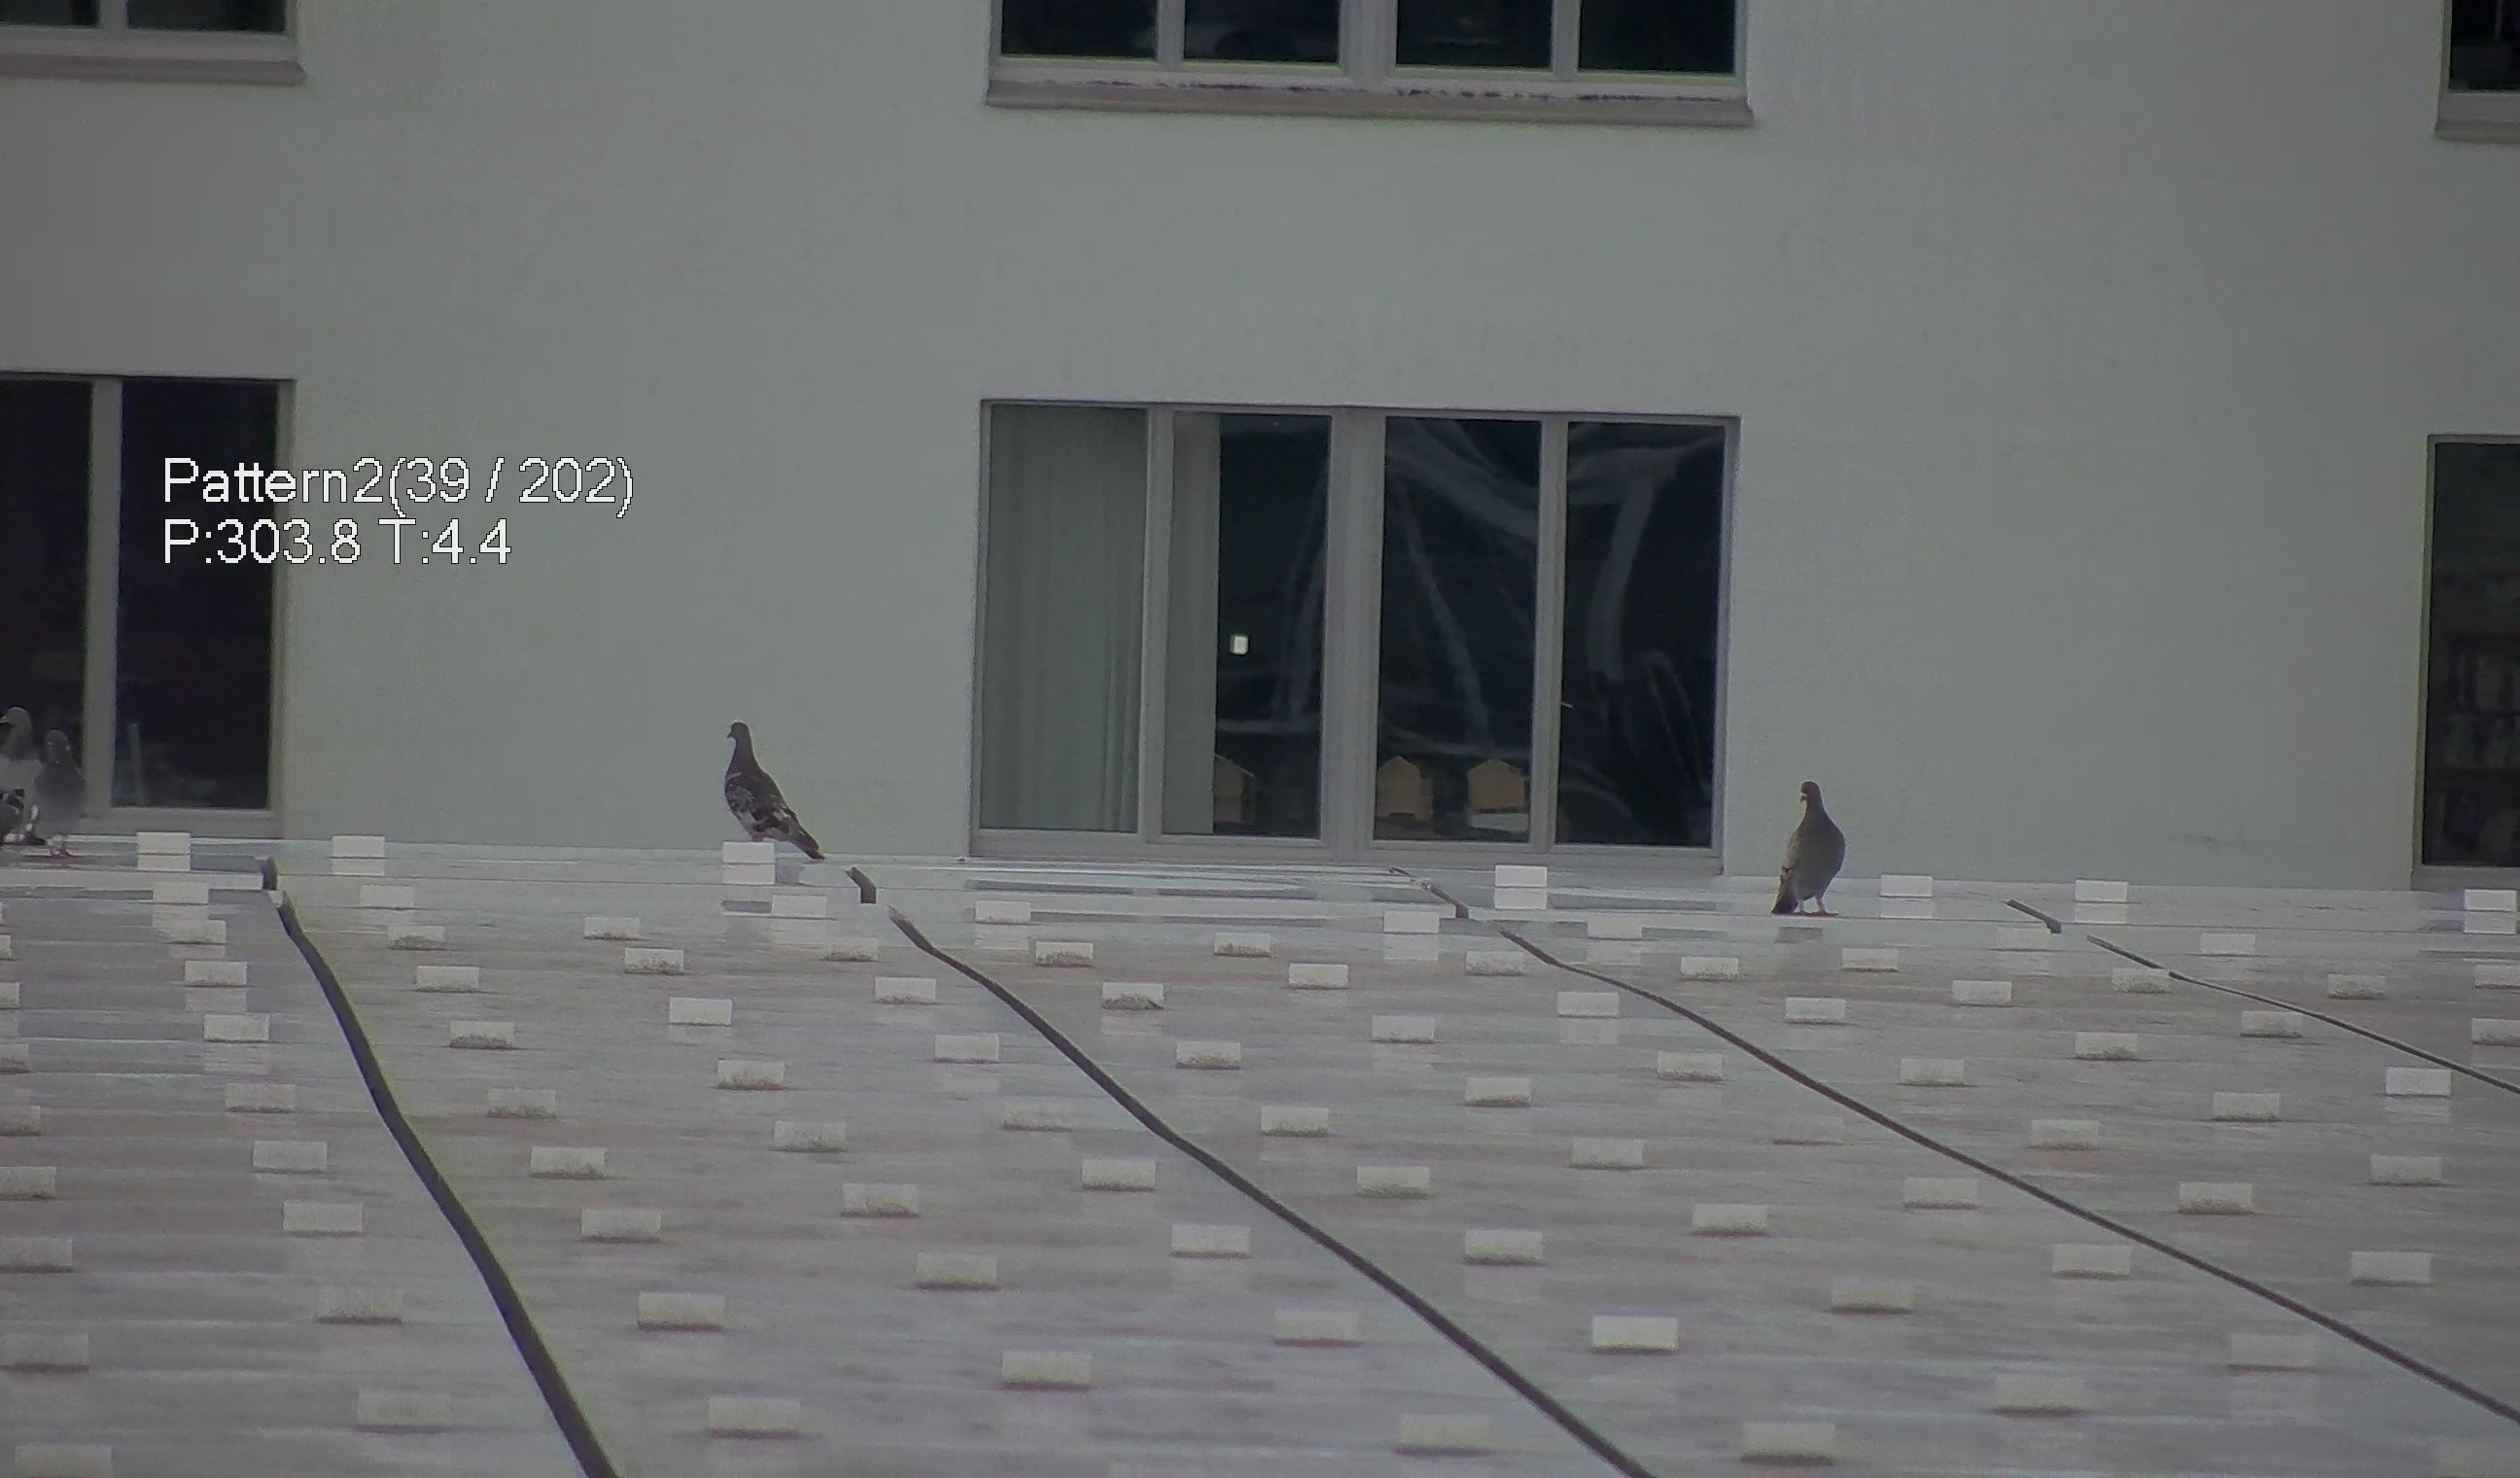Pigeon: (702, 709, 827, 876), (1771, 771, 1864, 931), (12, 720, 106, 869), (2, 690, 49, 848)
